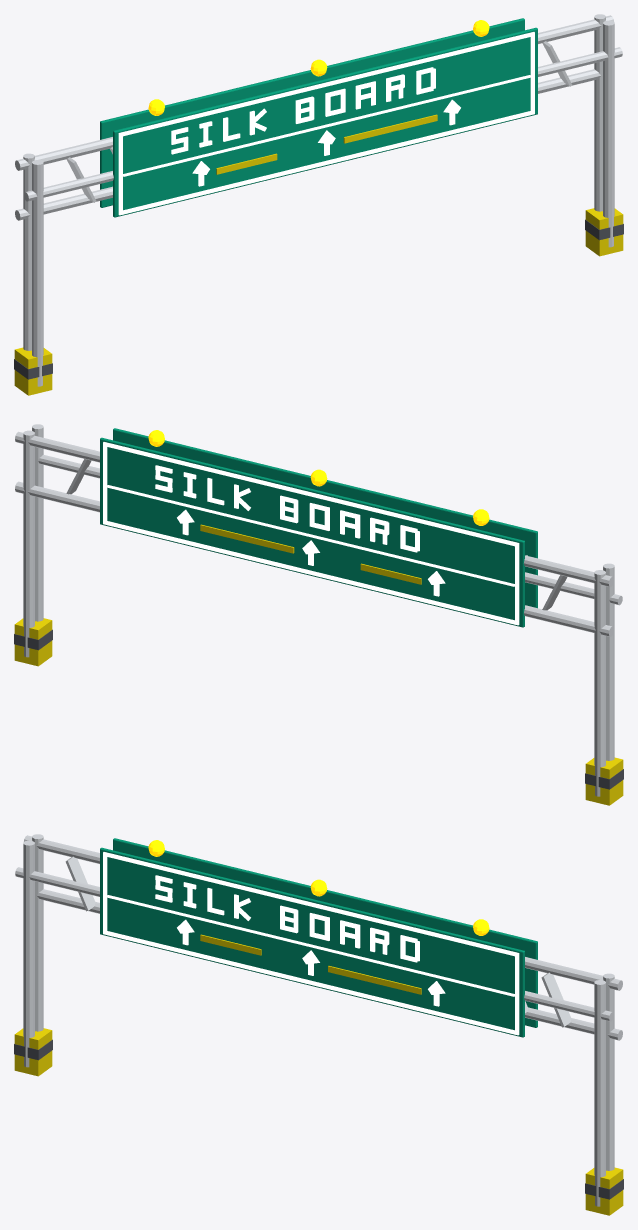
File: silk_board_sign.glb
3 renders of one model, top to bottom at view 1: azimuth 30°, elevation 25°; view 2: azimuth 150°, elevation 25°; view 3: azimuth 330°, elevation 25°, orthographic.
Visible parts, largest first — view 1: Silk_Board_Gantry_Mesh; view 2: Silk_Board_Gantry_Mesh; view 3: Silk_Board_Gantry_Mesh.
Boxes of the visible parts, <box> form: Silk_Board_Gantry_Mesh: <box>14,14,623,395</box>; Silk_Board_Gantry_Mesh: <box>14,424,623,805</box>; Silk_Board_Gantry_Mesh: <box>14,834,623,1215</box>.
Size of the model in its own units: 27.54 by 11.39 by 2.08.
